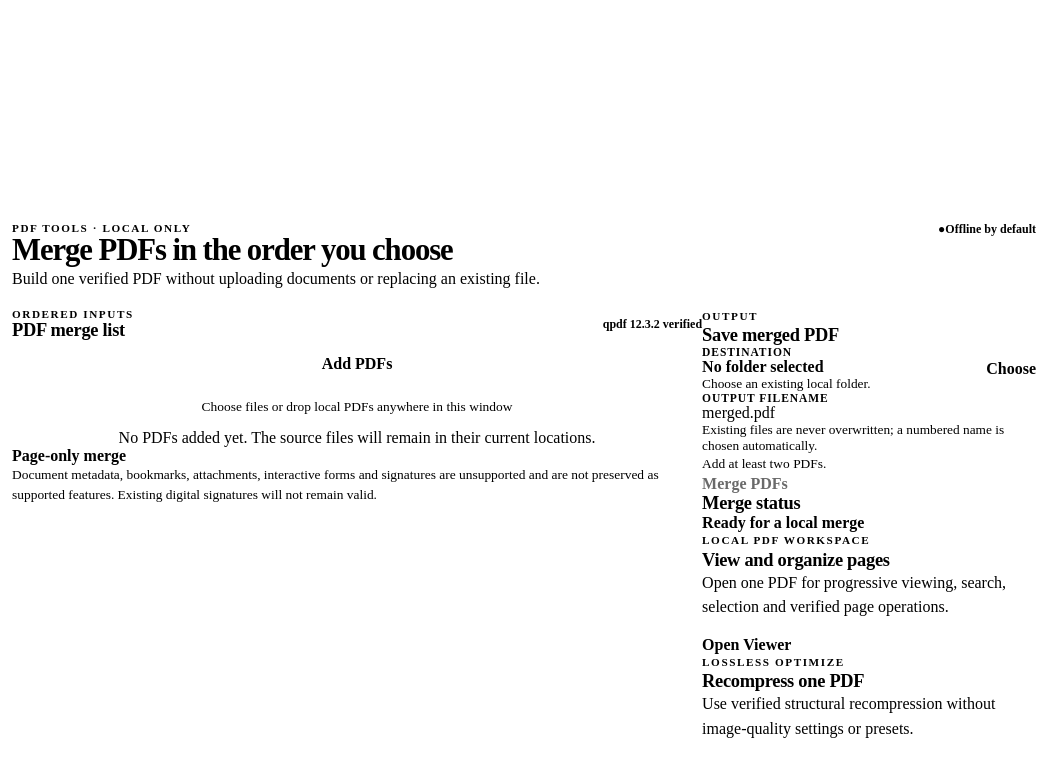
Scenario: G02 PDF Merge screen › shows indeterminate qpdf work, cancellation and verified success without fake percentages
The image size is (1048, 757).
(page scrolled)
Expected: the text "Offline by default" is shown, [945,222,1036,236]
Click the button "Add PDFs": (357, 363) [12,341,702,429]
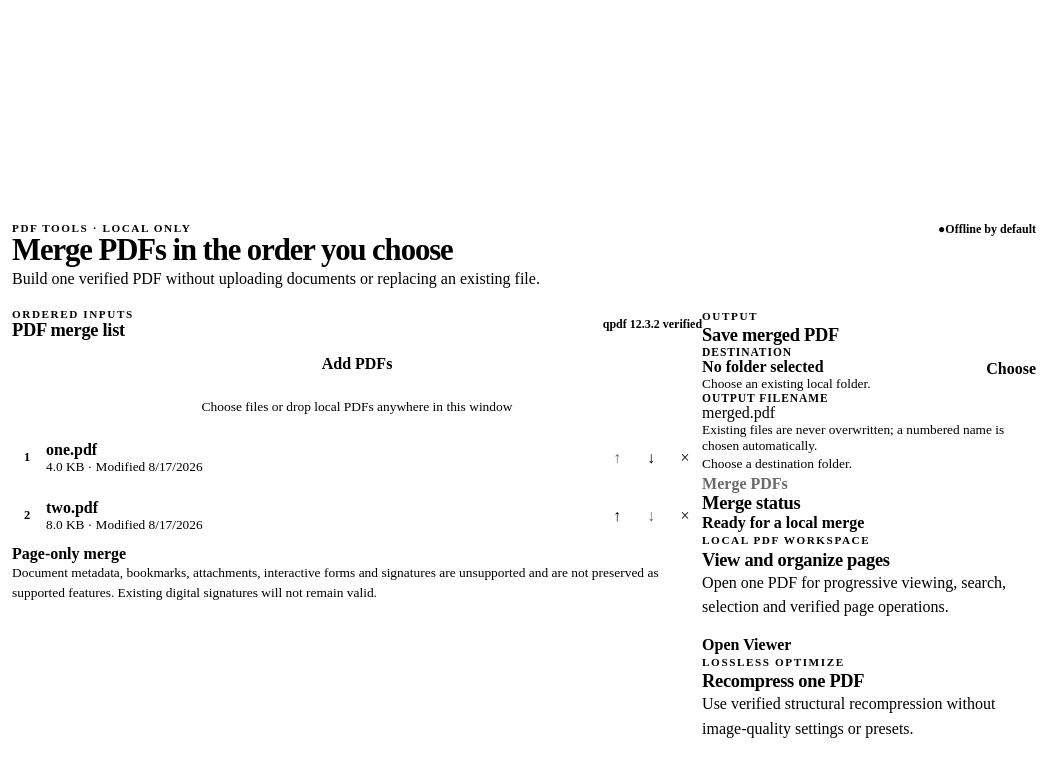
Click the button "Choose": (1011, 369) [986,360,1036,378]
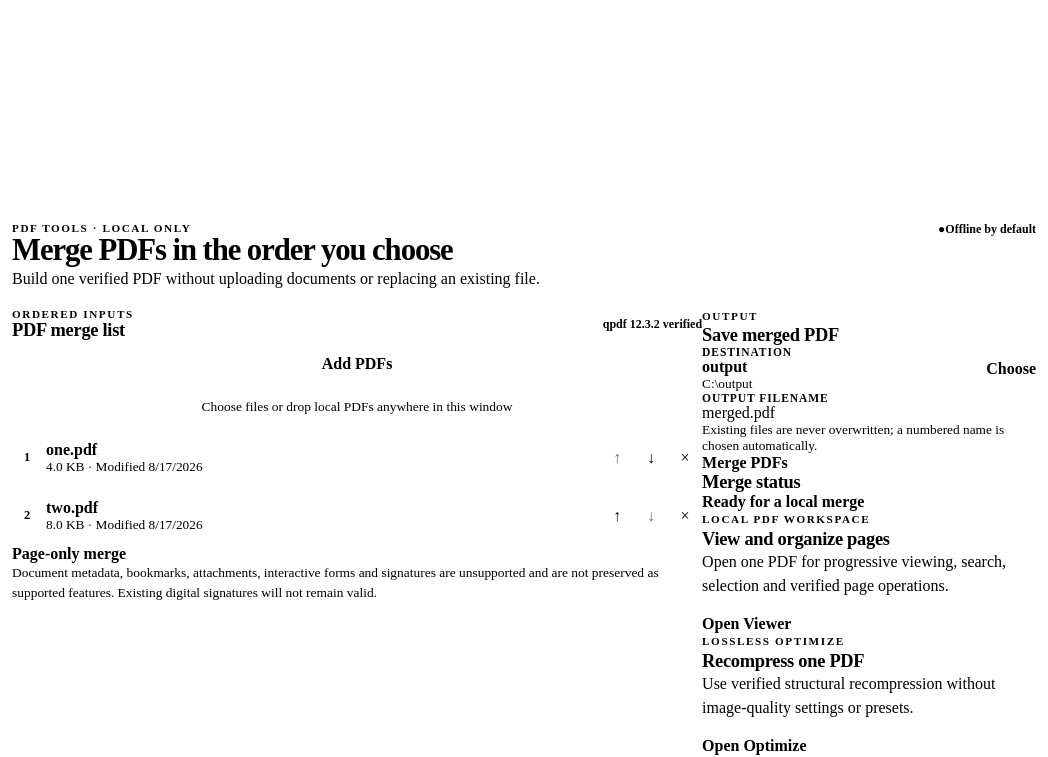
Click the button "Merge PDFs": (745, 463) [702,454,788,472]
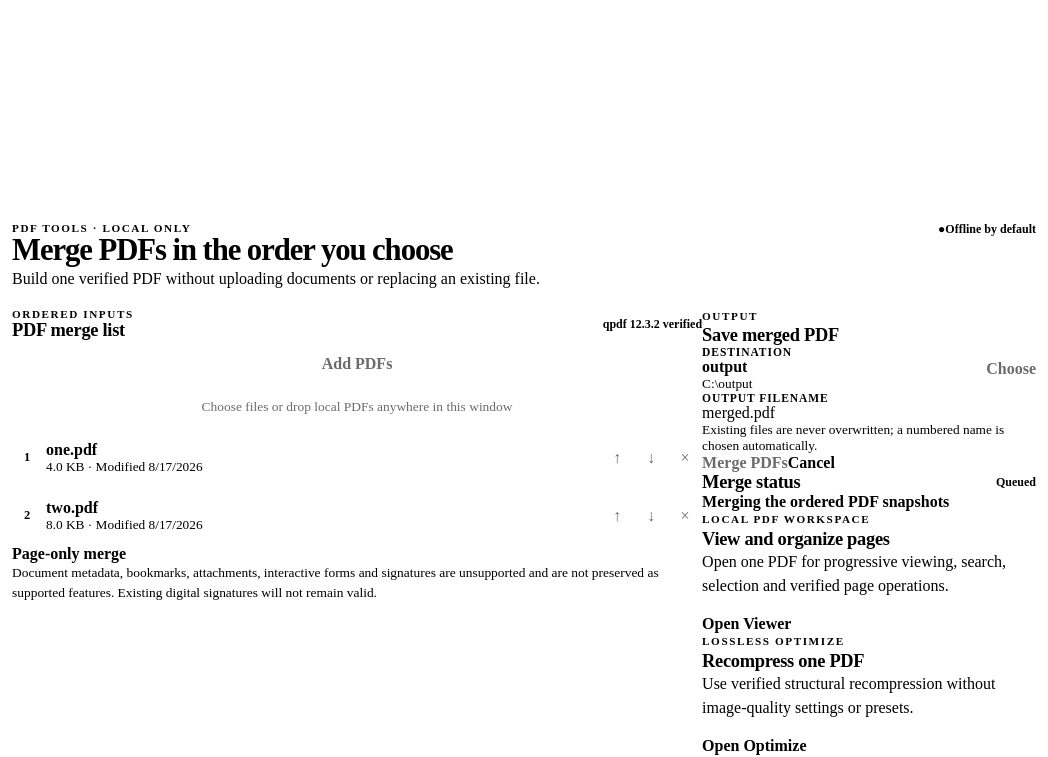
Click the button "Cancel": (811, 463) [788,454,835,472]
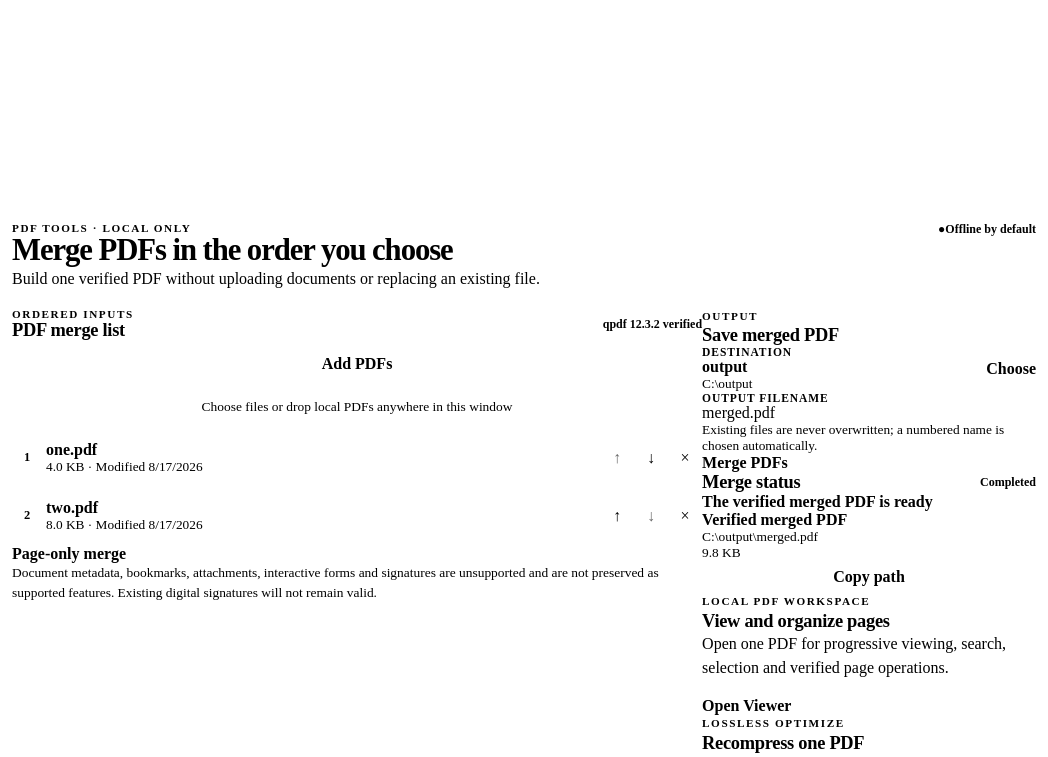
Now the text "Verified merged PDF" is shown, box [702,511,847,528]
Now the text "C:\\output\\merged.pdf" is shown, box [702,529,818,544]
